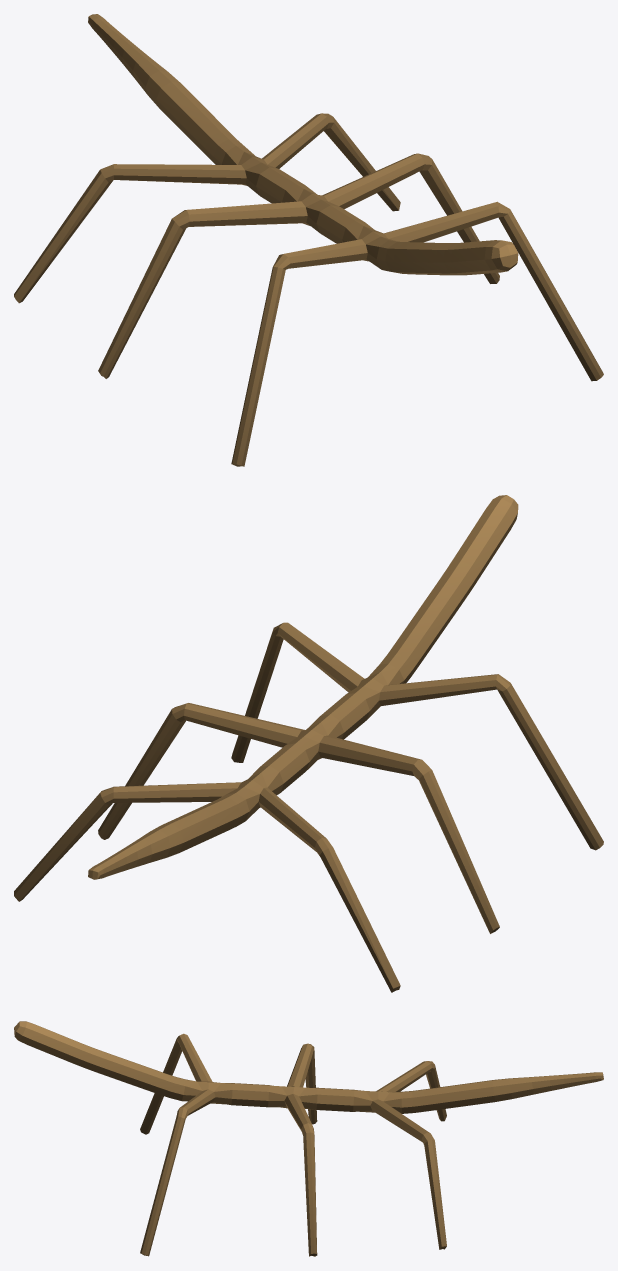
The model's file is phasma.glb.
3 views of the same model, one above another, from view 1: azimuth 30°, elevation 25°; view 2: azimuth 150°, elevation 25°; view 3: azimuth 270°, elevation 25° (orthographic). The views are drawn at different scales.
Parts seen in each view (by area): view 1: Cube.122; view 2: Cube.122; view 3: Cube.122.
Part boxes in pixels (box(x1,y1,x2,y2)): Cube.122: box(14, 14, 603, 466); Cube.122: box(14, 495, 603, 992); Cube.122: box(14, 1021, 603, 1256).
Size of the model in its own units: 0.9713 by 0.5691 by 1.76.
Materials: 1 (1 with a texture image).
